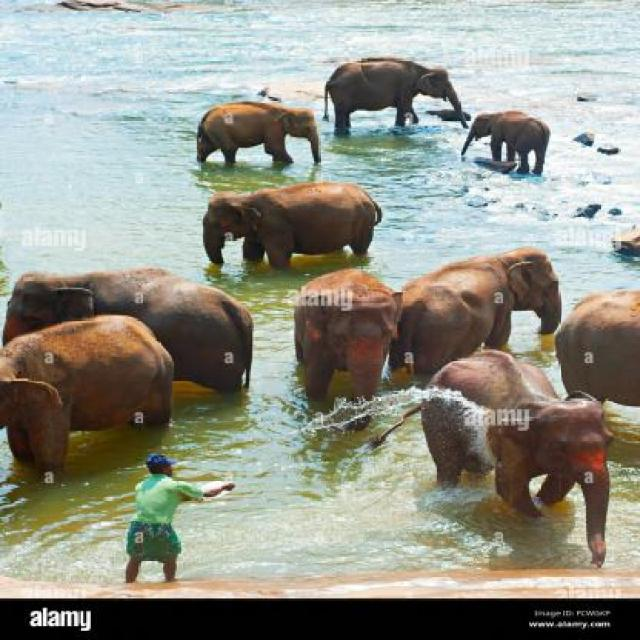elephant: (1, 222, 262, 402), (404, 345, 616, 561), (0, 312, 169, 470), (409, 220, 566, 348), (206, 182, 400, 273), (296, 275, 406, 427), (314, 59, 474, 148), (156, 97, 319, 169), (560, 272, 640, 412), (454, 111, 572, 166)
